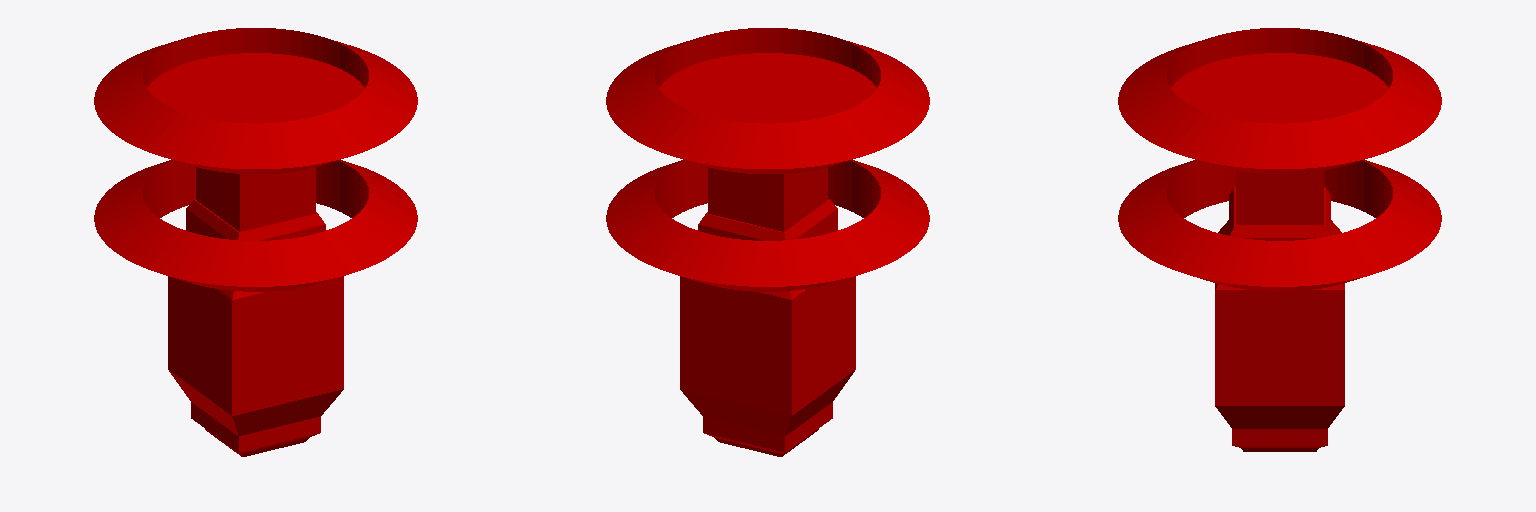
The model's file is ground_lamp.obj.
3 renders of one model, left to right at view 1: azimuth 30°, elevation 25°; view 2: azimuth 150°, elevation 25°; view 3: azimuth 270°, elevation 25°, orthographic.
Size of the model in its own units: 2.5 by 3.07 by 2.5.